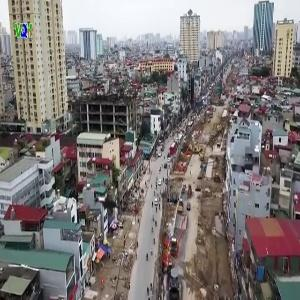drone: (85, 174, 142, 231)
